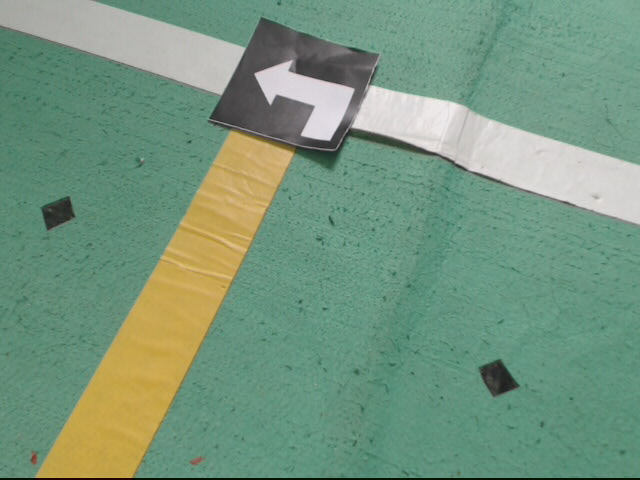left: (209, 19, 380, 155)
